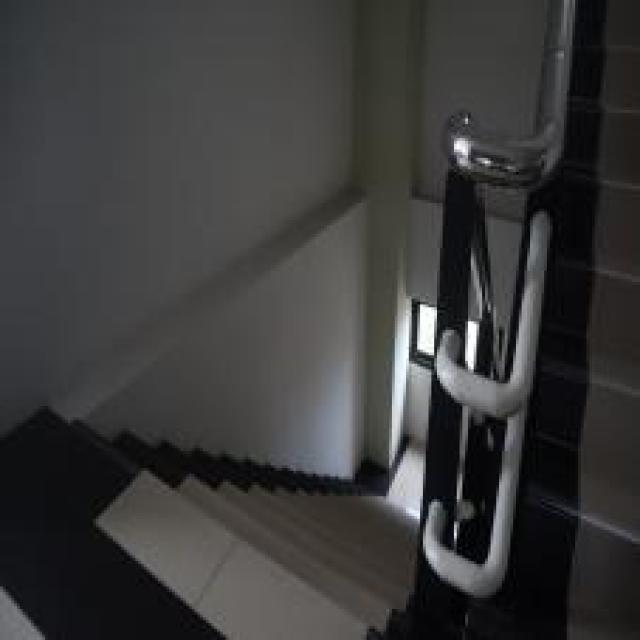downstair: (123, 416, 419, 638)
